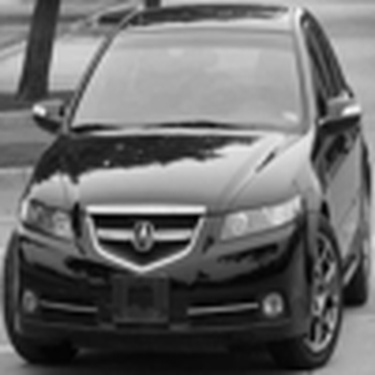car: (2, 1, 371, 369), (1, 3, 273, 103)
